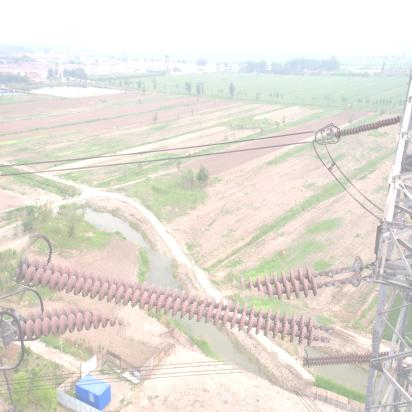insulator: (14, 236, 337, 370), (304, 348, 412, 370), (335, 116, 404, 142)
